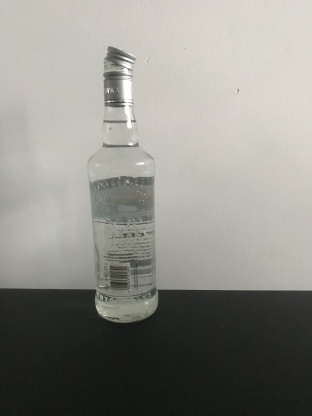nakretka: (102, 43, 137, 108)
